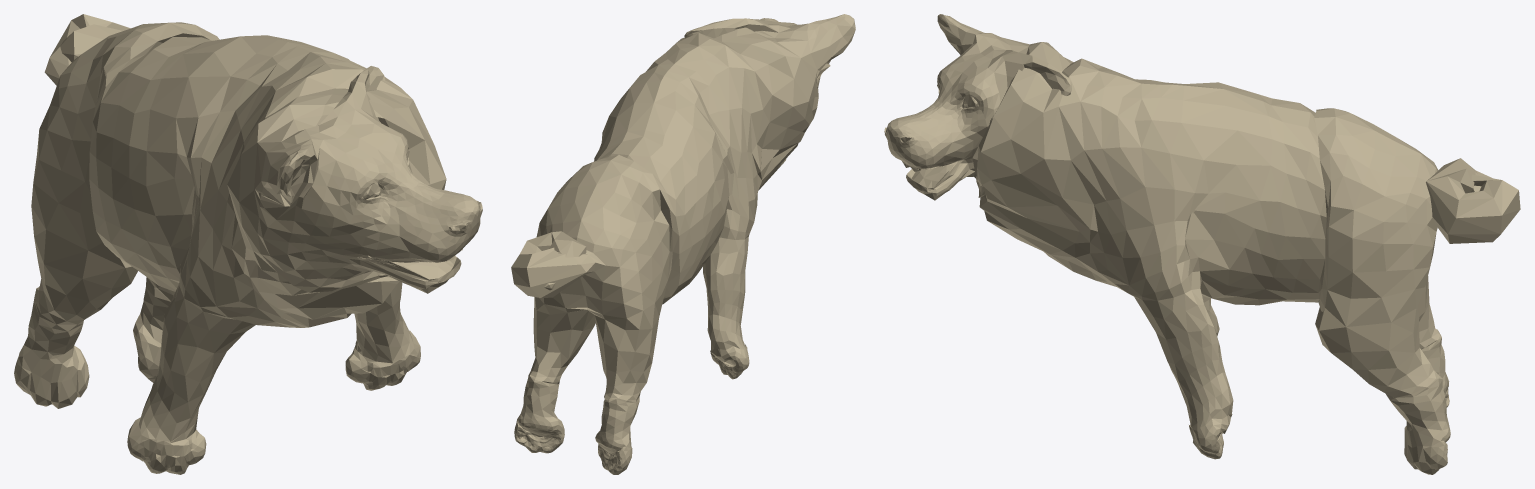
3 views of the same model, side by side, from view 1: azimuth 30°, elevation 25°; view 2: azimuth 150°, elevation 25°; view 3: azimuth 270°, elevation 25° (orthographic). The views are drawn at different scales.
Visible parts, largest first — view 1: world; view 2: world; view 3: world.
Boxes of the visible parts, x1,y1,x2,y2 form: world: (14, 14, 482, 474); world: (511, 14, 855, 474); world: (884, 14, 1520, 474).
Bounding box in the file's own units: 0.5203 × 0.8051 × 1.16.
